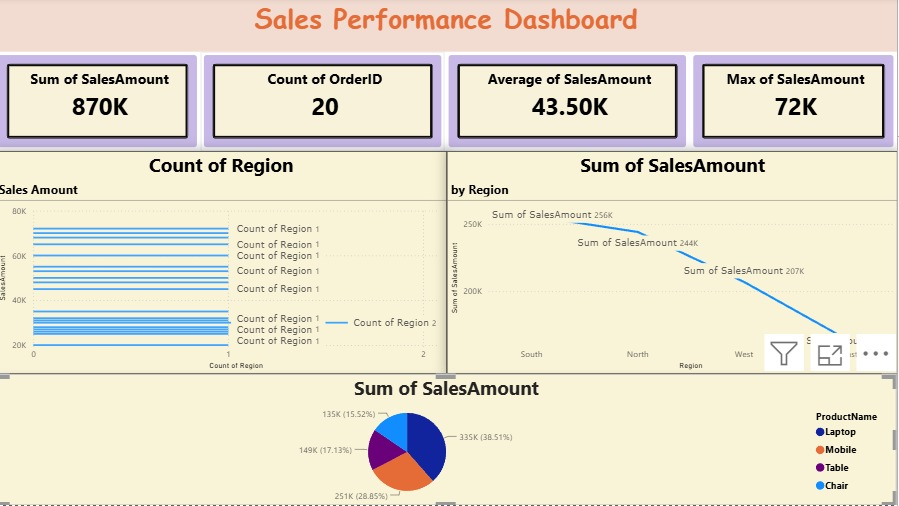

The page's visual inventory and layout, read from the dashboard file:
{"tool":"powerbi","page":{"name":"Page 1","canvas":[1280,720],"ordinal":0},"visuals":[{"type":"cardVisual","fields":{"Data":["Sum(product_Sales.SalesAmount)"]},"box":[2.4,78.8,291.3,140.9],"z":0},{"type":"cardVisual","fields":{"Data":["CountNonNull(product_Sales.OrderID)"]},"box":[293.7,78.8,346.3,140.9],"z":1000},{"type":"cardVisual","fields":{"Data":["Avg(product_Sales.SalesAmount)"]},"box":[640,78.8,346.3,140.9],"z":2000},{"type":"cardVisual","fields":{"Data":["Max(product_Sales.SalesAmount)"]},"box":[986.3,78.8,293.7,140.9],"z":3000},{"type":"clusteredBarChart","title":"Count of Region ","fields":{"Category":["product_Sales.SalesAmount"],"Y":["CountNonNull(product_Sales.Region)"]},"box":[2.4,219.7,640,315.2],"z":4000},{"type":"pieChart","title":"Sum of SalesAmount ","fields":{"Category":["product_Sales.ProductName"],"Y":["Sum(product_Sales.SalesAmount)"]},"box":[2.4,534.9,1277.6,186.3],"z":5000},{"type":"lineChart","fields":{"Category":["product_Sales.Region"],"Y":["Sum(product_Sales.SalesAmount)"]},"box":[642.4,219.7,637.6,315.2],"z":6000},{"type":"textbox","box":[2.4,0,1277.6,78.8],"z":7000}]}

Visuals, with their boxes in screenshot pixels (x1, y1, x2, y2), scaled from the page's 1280x720 canvas onto the 899x506 screenshot:
cardVisual - Sum(product_Sales.SalesAmount): box(2, 55, 206, 154)
cardVisual - CountNonNull(product_Sales.OrderID): box(206, 55, 450, 154)
cardVisual - Avg(product_Sales.SalesAmount): box(450, 55, 693, 154)
cardVisual - Max(product_Sales.SalesAmount): box(693, 55, 898, 154)
"Count of Region " clusteredBarChart: box(2, 154, 451, 376)
"Sum of SalesAmount " pieChart: box(2, 376, 898, 505)
lineChart - product_Sales.Region x Sum(product_Sales.SalesAmount): box(451, 154, 898, 376)
textbox: box(2, 0, 898, 55)
